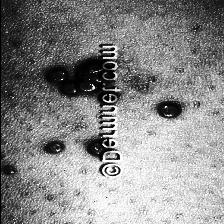Toxin: (44, 63, 111, 95), (158, 102, 182, 118), (46, 142, 62, 154)
